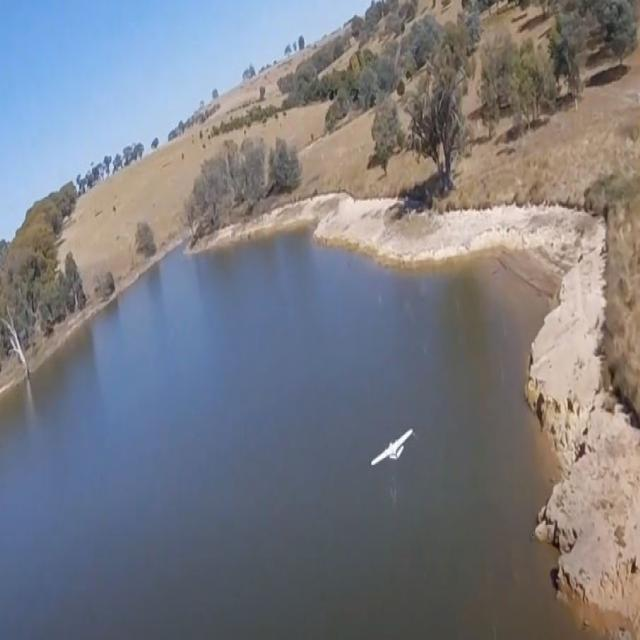iha: (363, 425, 406, 470)
